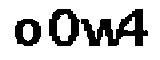0: (48, 5, 81, 51)
4: (120, 5, 151, 49)
o: (10, 16, 42, 48)
w: (81, 15, 122, 51)
